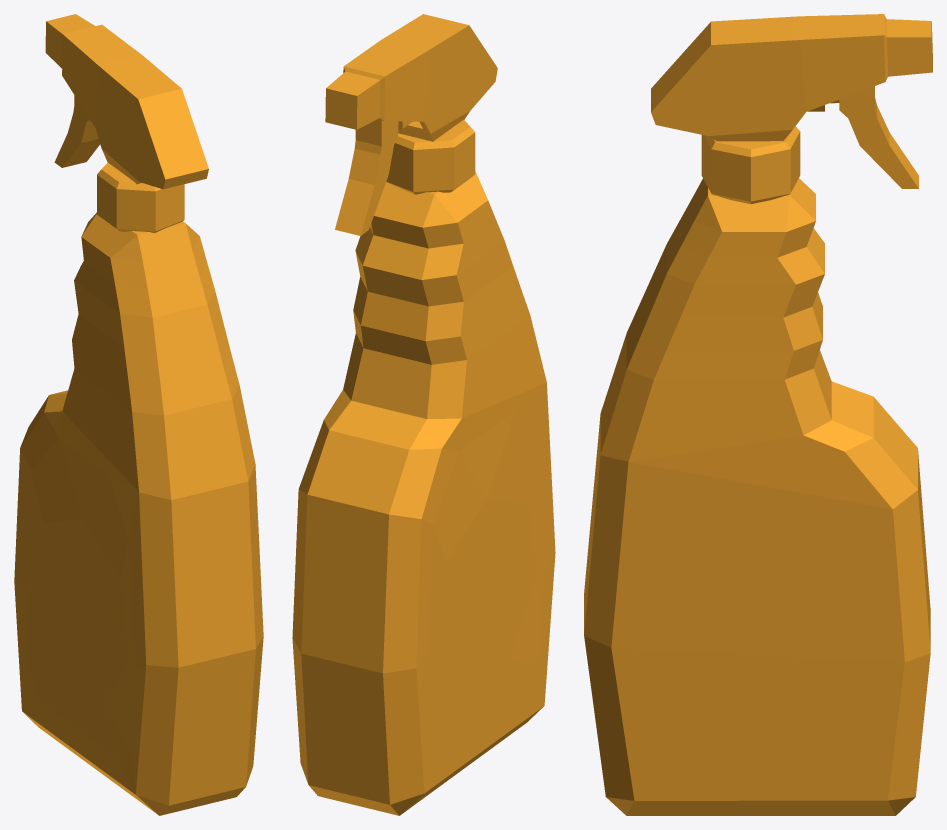
Rendered from SM_Bottle_Spray_Bugs.fbx.
3 renders of one model, left to right at view 1: azimuth 30°, elevation 25°; view 2: azimuth 150°, elevation 25°; view 3: azimuth 270°, elevation 25°, orthographic. The views are drawn at different scales.
Parts seen in each view (by area): view 1: bottle-spray-bugs; view 2: bottle-spray-bugs; view 3: bottle-spray-bugs.
Boxes of the visible parts, bbox=[...] form: bottle-spray-bugs: bbox=[14, 14, 263, 815]; bottle-spray-bugs: bbox=[292, 14, 555, 815]; bottle-spray-bugs: bbox=[584, 14, 932, 815].
Size of the model in its own units: 0.071 by 0.4001 by 0.1642.
